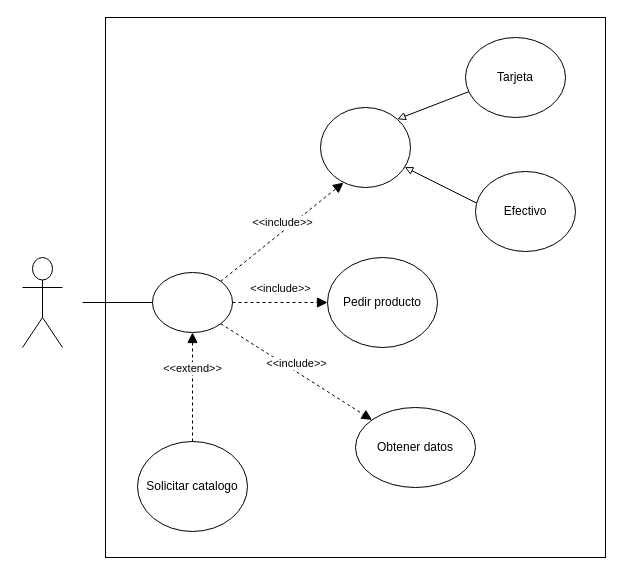
Some shapes in this 623 by 575 pixel diagram are drawn without their labels. Each missing label, with the centre of its shape:
Pagar: (365,147)
Pedido: (192,302)
Vendedor: (42,302)
